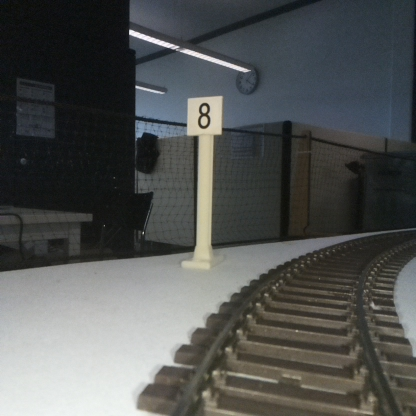white-info-8: (187, 96, 222, 265)
